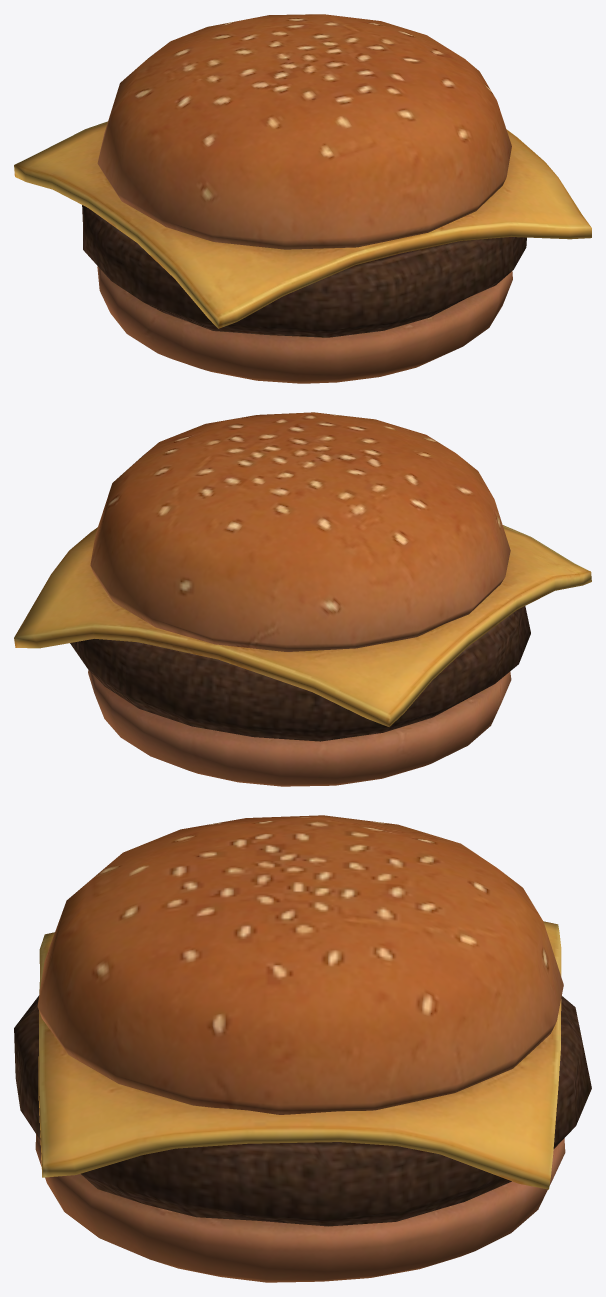
The model's file is burger.fbx.
The picture shows the model from 3 angles, top to bottom: view 1: azimuth 30°, elevation 25°; view 2: azimuth 150°, elevation 25°; view 3: azimuth 270°, elevation 25°; orthographic projection. The views are drawn at different scales.
Visible parts, largest first — view 1: burger; view 2: burger; view 3: burger.
Part boxes in pixels (bbox=[...]): burger: bbox=[14, 14, 591, 383]; burger: bbox=[14, 412, 591, 786]; burger: bbox=[14, 815, 591, 1282].
Bounding box in the file's own units: 0.1663 × 0.166 × 0.1088.
